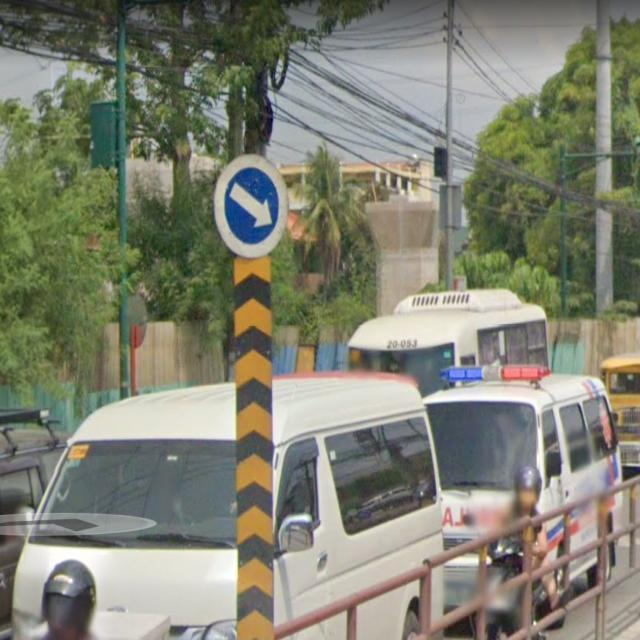keep right: (213, 152, 289, 258)
